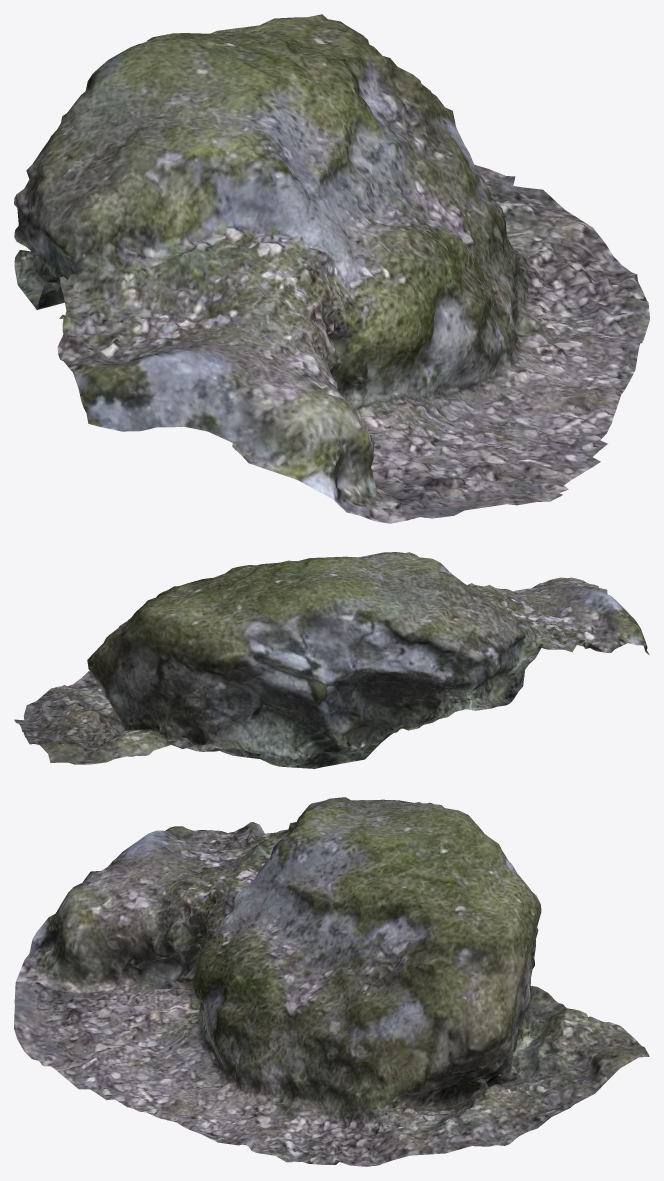
Rendered from rock2_quest.glb.
The picture shows the model from 3 angles, top to bottom: view 1: azimuth 30°, elevation 25°; view 2: azimuth 150°, elevation 25°; view 3: azimuth 270°, elevation 25°; orthographic projection. The views are drawn at different scales.
Visible parts, largest first — view 1: PM3D_Rock1_oPP_PM3D_Rock1_oPP_0; view 2: PM3D_Rock1_oPP_PM3D_Rock1_oPP_0; view 3: PM3D_Rock1_oPP_PM3D_Rock1_oPP_0.
Boxes of the visible parts, x1,y1,x2,y2 form: PM3D_Rock1_oPP_PM3D_Rock1_oPP_0: (14, 14, 649, 523); PM3D_Rock1_oPP_PM3D_Rock1_oPP_0: (14, 552, 649, 768); PM3D_Rock1_oPP_PM3D_Rock1_oPP_0: (14, 797, 649, 1166).
Bounding box in the file's own units: 1.46 × 0.5988 × 1.64.
1 material, 1 textured.
